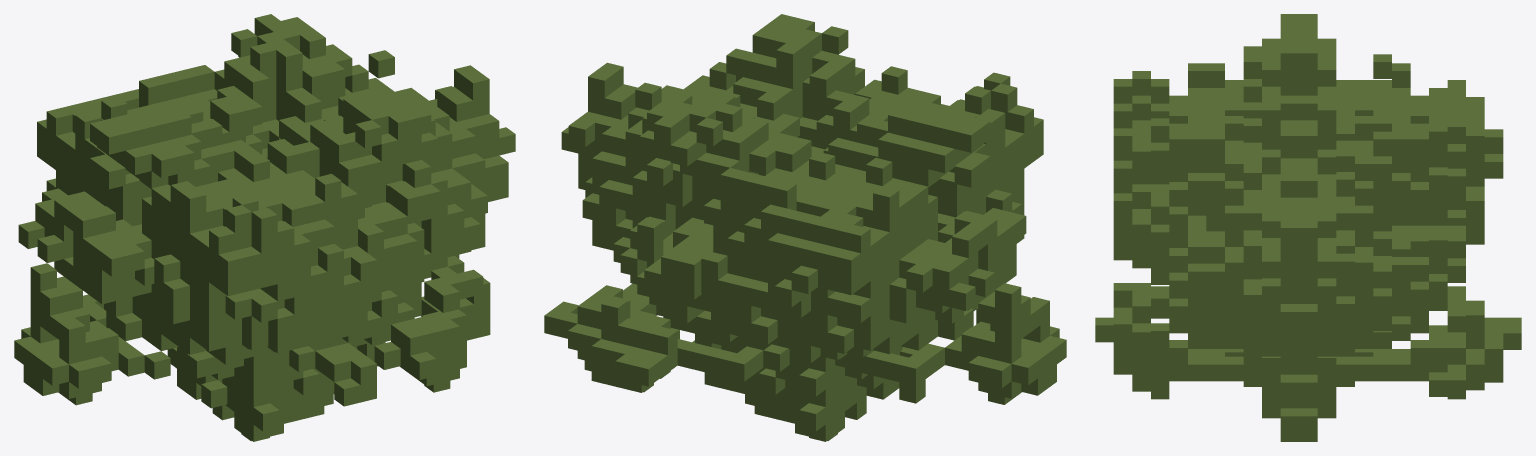
Rendered from good-11.obj.
The picture shows the model from 3 angles, left to right: view 1: azimuth 30°, elevation 25°; view 2: azimuth 150°, elevation 25°; view 3: azimuth 270°, elevation 25°; orthographic projection. The views are drawn at different scales.
Size of the model in its own units: 2.8 by 1.9 by 2.3.
1 material, 1 textured.
